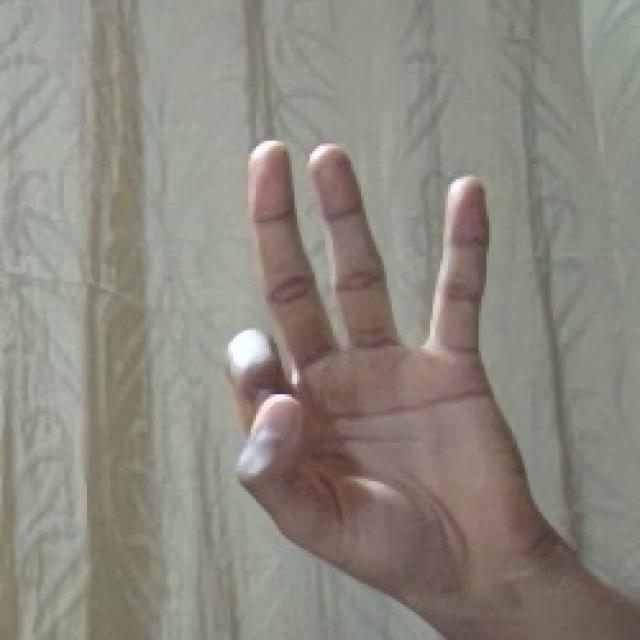Numeric-9: (220, 133, 508, 585)
